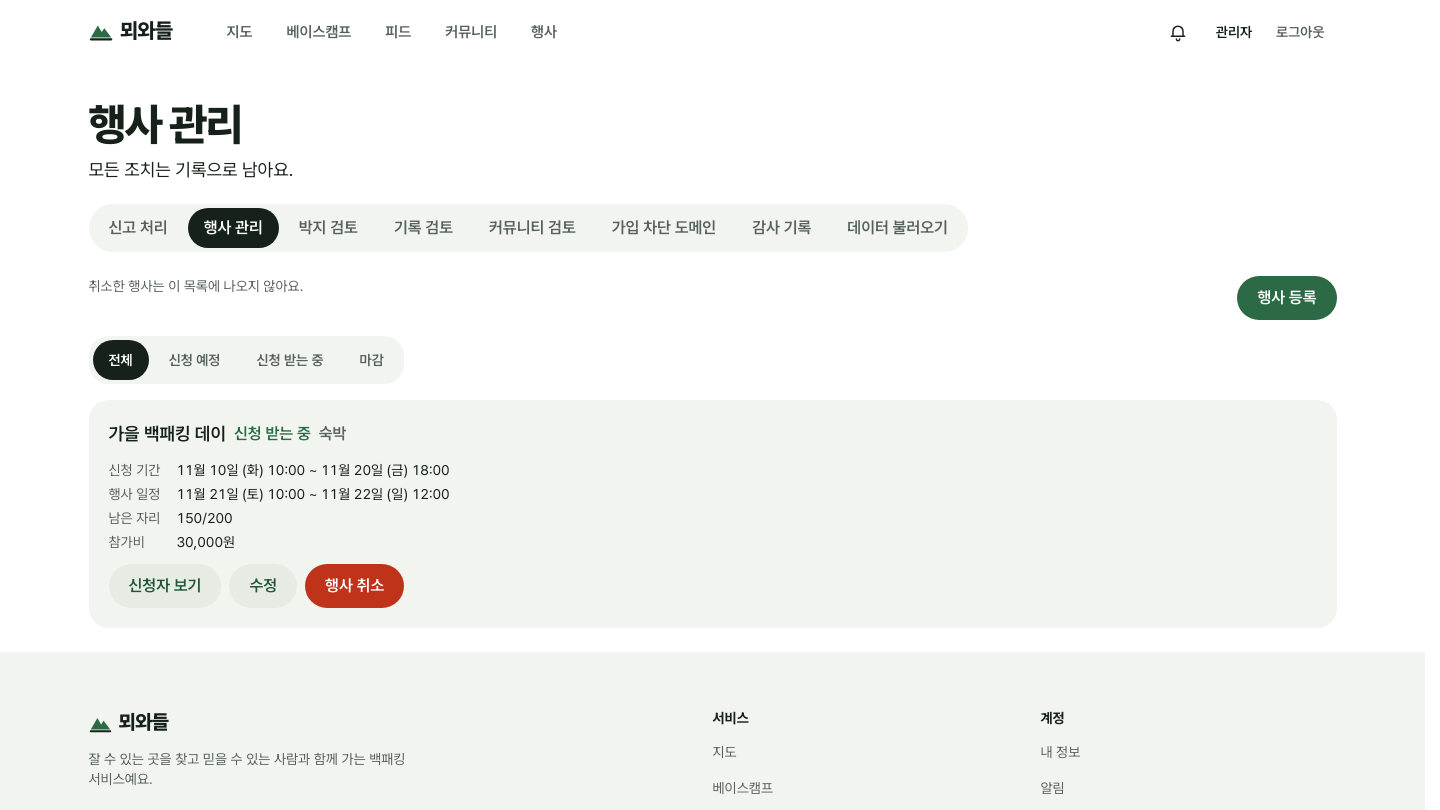
Scenario: 관리자 행사 관리 목록 › 행사 취소 › 취소 버튼을 누르면 영향을 쉬운 문장으로 알리는 확인 대화상자가 열리고 요청은 아직 나가지 않는다
What coordinates should you click on to do the following:
click the button "행사 취소"
I would click on:
 (355, 586)
Its box is 305,564 -> 404,608.
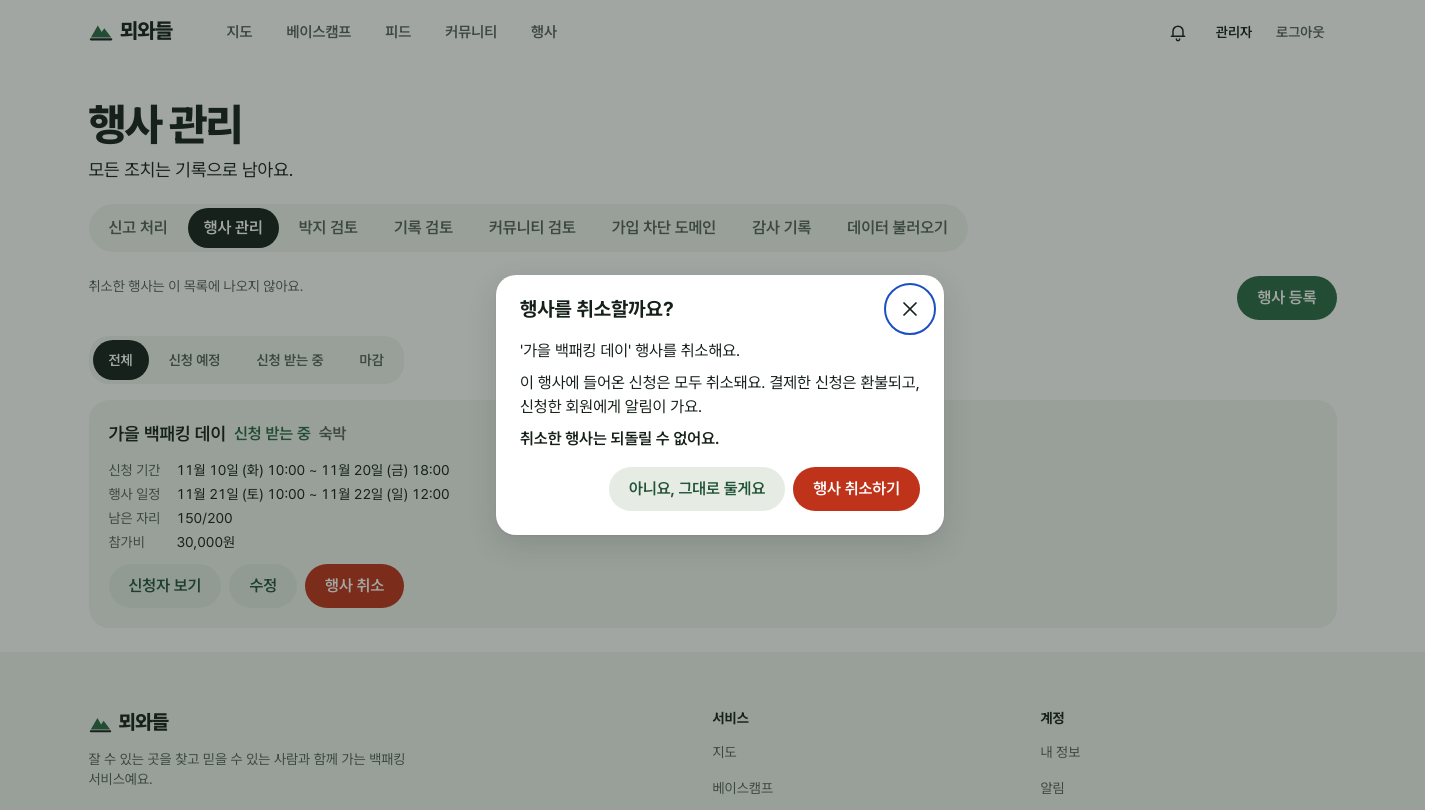
Check: the heading "행사를 취소할까요?" is shown, box 520,295 -> 674,323
Check: the dialog shows "가을 백패킹 데이", box 523,341 -> 628,360
Check: the dialog shows "이 행사에 들어온 신청은 모두 취소돼요.", box 520,373 -> 920,416
